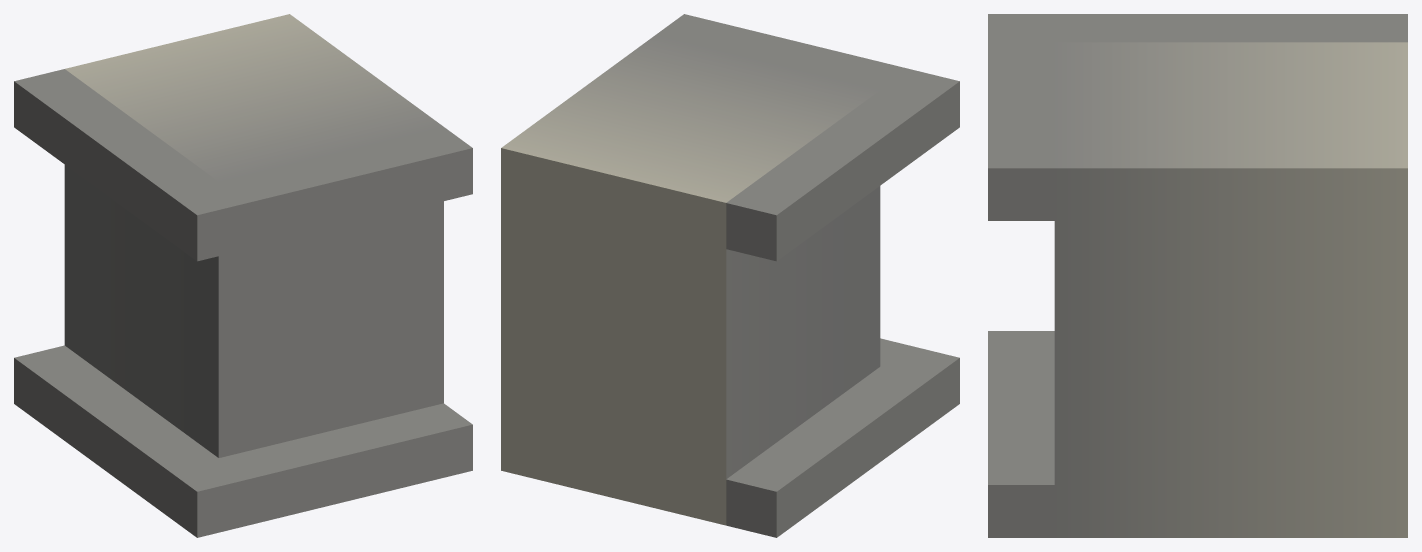
The model's file is B02_intersection_etage_1_corner.fbx.
3 renders of one model, left to right at view 1: azimuth 30°, elevation 25°; view 2: azimuth 150°, elevation 25°; view 3: azimuth 270°, elevation 25°, orthographic. The views are drawn at different scales.
Visible parts, largest first — view 1: B02_intersection_etage_1_corner; view 2: B02_intersection_etage_1_corner; view 3: B02_intersection_etage_1_corner.
Part boxes in pixels (left/top/right/bottom): B02_intersection_etage_1_corner: left=14, top=14, right=472, bottom=537; B02_intersection_etage_1_corner: left=501, top=14, right=959, bottom=537; B02_intersection_etage_1_corner: left=988, top=14, right=1407, bottom=537.
Size of the model in its own units: 91.86 by 103 by 106.
